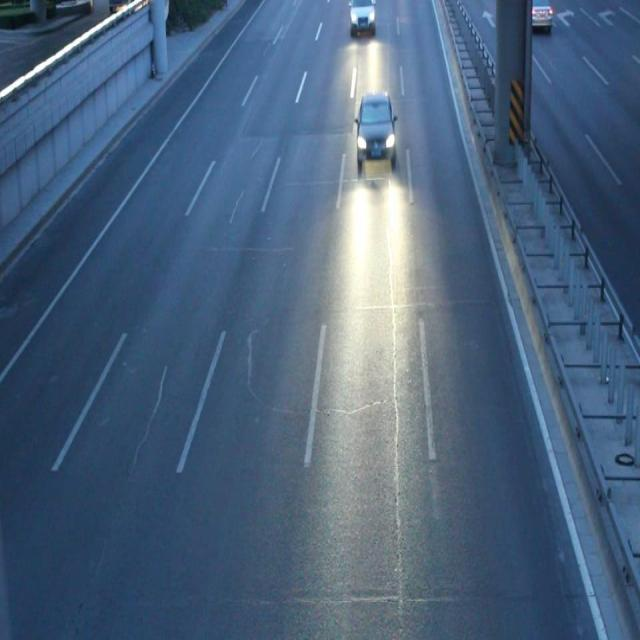car: (355, 93, 396, 169), (348, 1, 374, 33)
